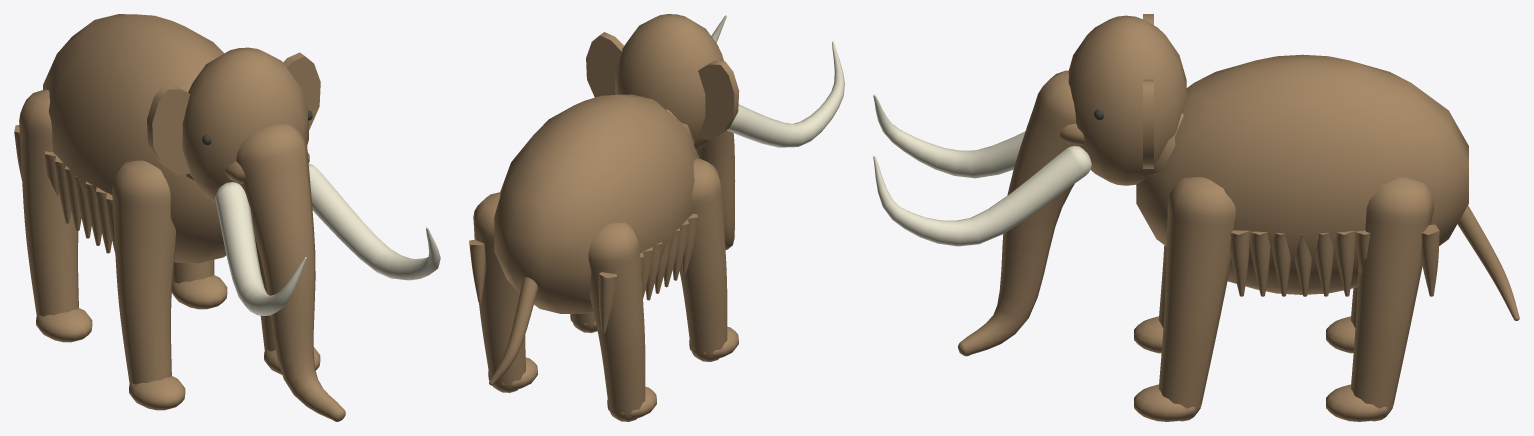
Rendered from dinosaurs-and-prehistoric-life-woolly-mammoth-737fa6ea__4914.glb.
The picture shows the model from 3 angles, left to right: view 1: azimuth 30°, elevation 25°; view 2: azimuth 150°, elevation 25°; view 3: azimuth 270°, elevation 25°; orthographic projection. The views are drawn at different scales.
Parts seen in each view (by area): view 1: woolly-mammoth; view 2: woolly-mammoth; view 3: woolly-mammoth.
Part boxes in pixels (box(x1,y1,x2,y2)): woolly-mammoth: box(14, 14, 440, 421); woolly-mammoth: box(469, 14, 844, 421); woolly-mammoth: box(873, 14, 1519, 421).
Size of the model in its own units: 1.84 by 3.42 by 5.5.
